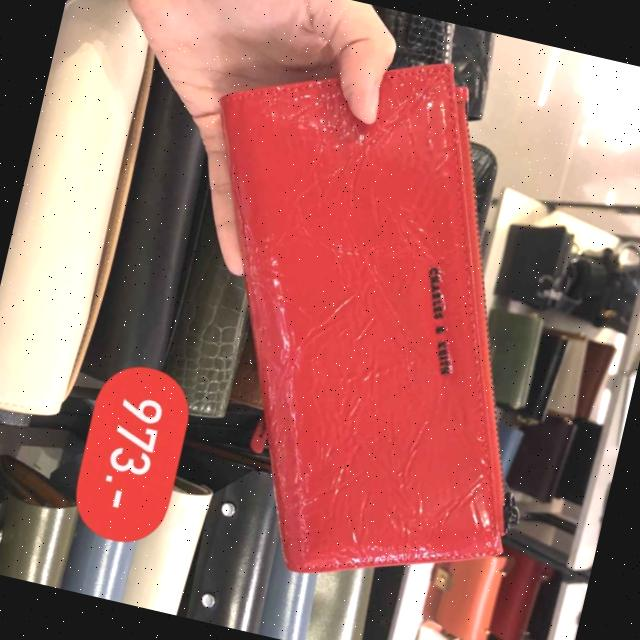handbag: (112, 7, 612, 620)
